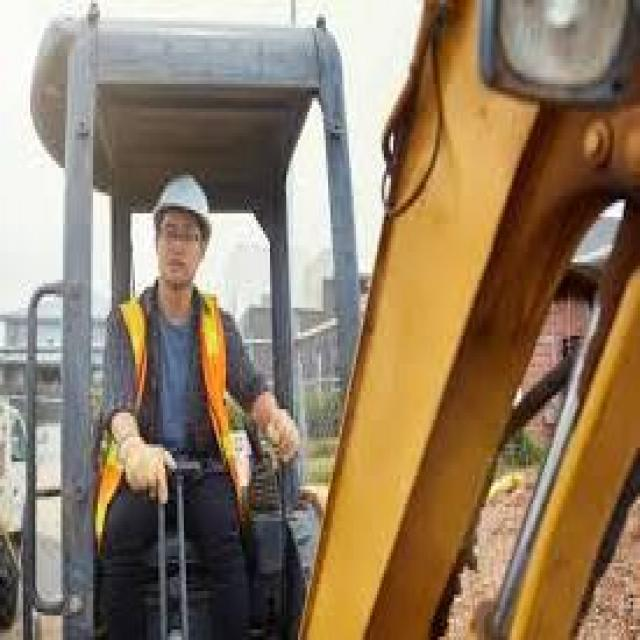Reflective-Jacket: (89, 280, 254, 524)
Safety-Helmet: (144, 164, 221, 238)
